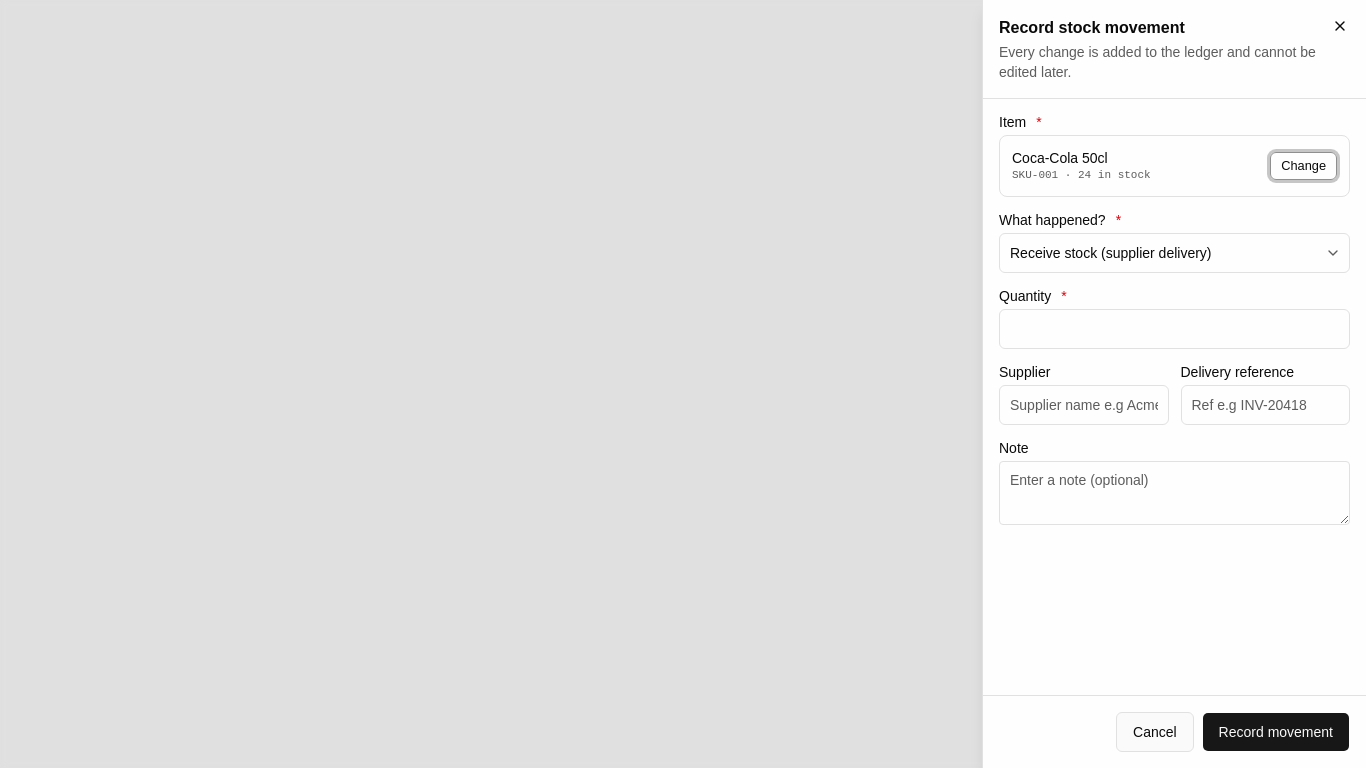
RecordMovementDrawer › shows an empty search result and can clear the chosen item
What coordinates should you click on to do the following:
click the button "Change"
I would click on:
 (1304, 166)
Its box is left=1270, top=152, right=1337, bottom=180.
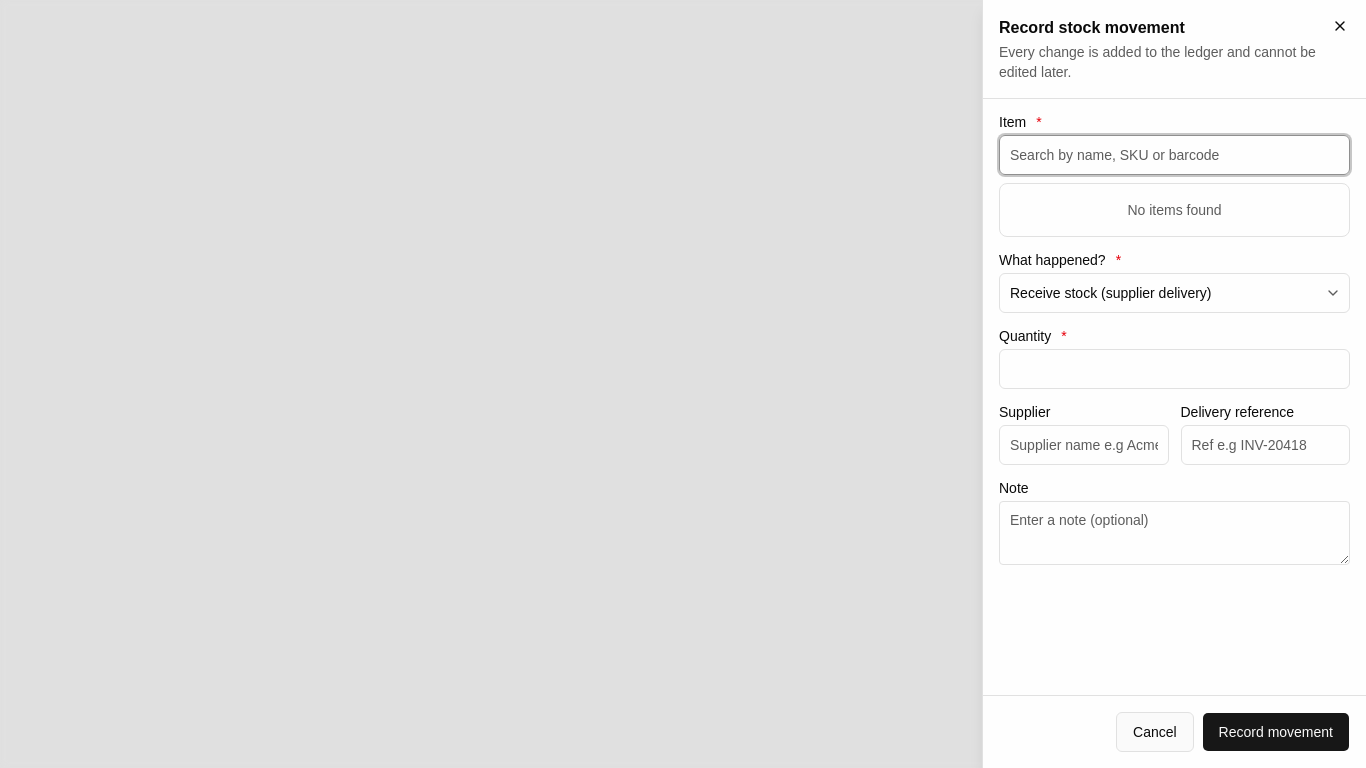
expect the list item "No items found" is shown: met, box left=1127, top=202, right=1222, bottom=218
expect the text "Coca-Cola 50cl" is gone: met
